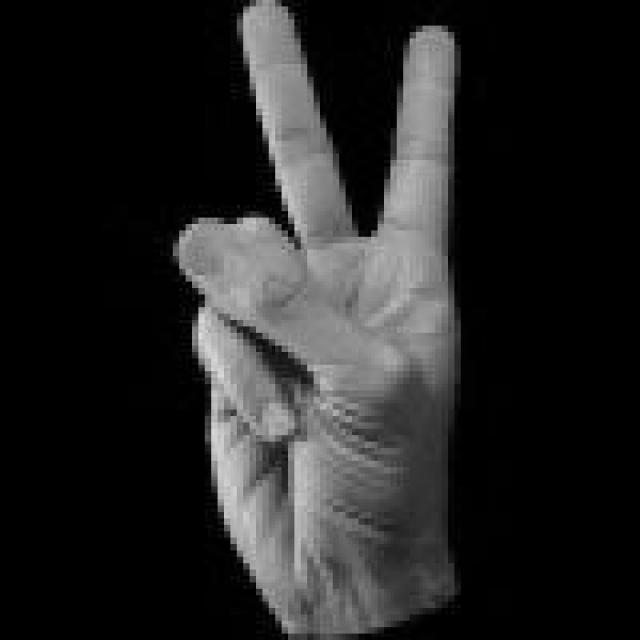V: (156, 0, 474, 640)
